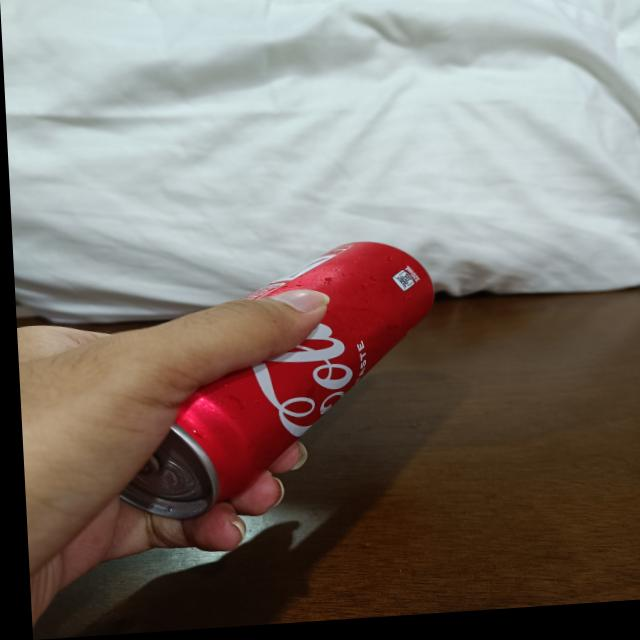coke: (88, 244, 437, 527)
